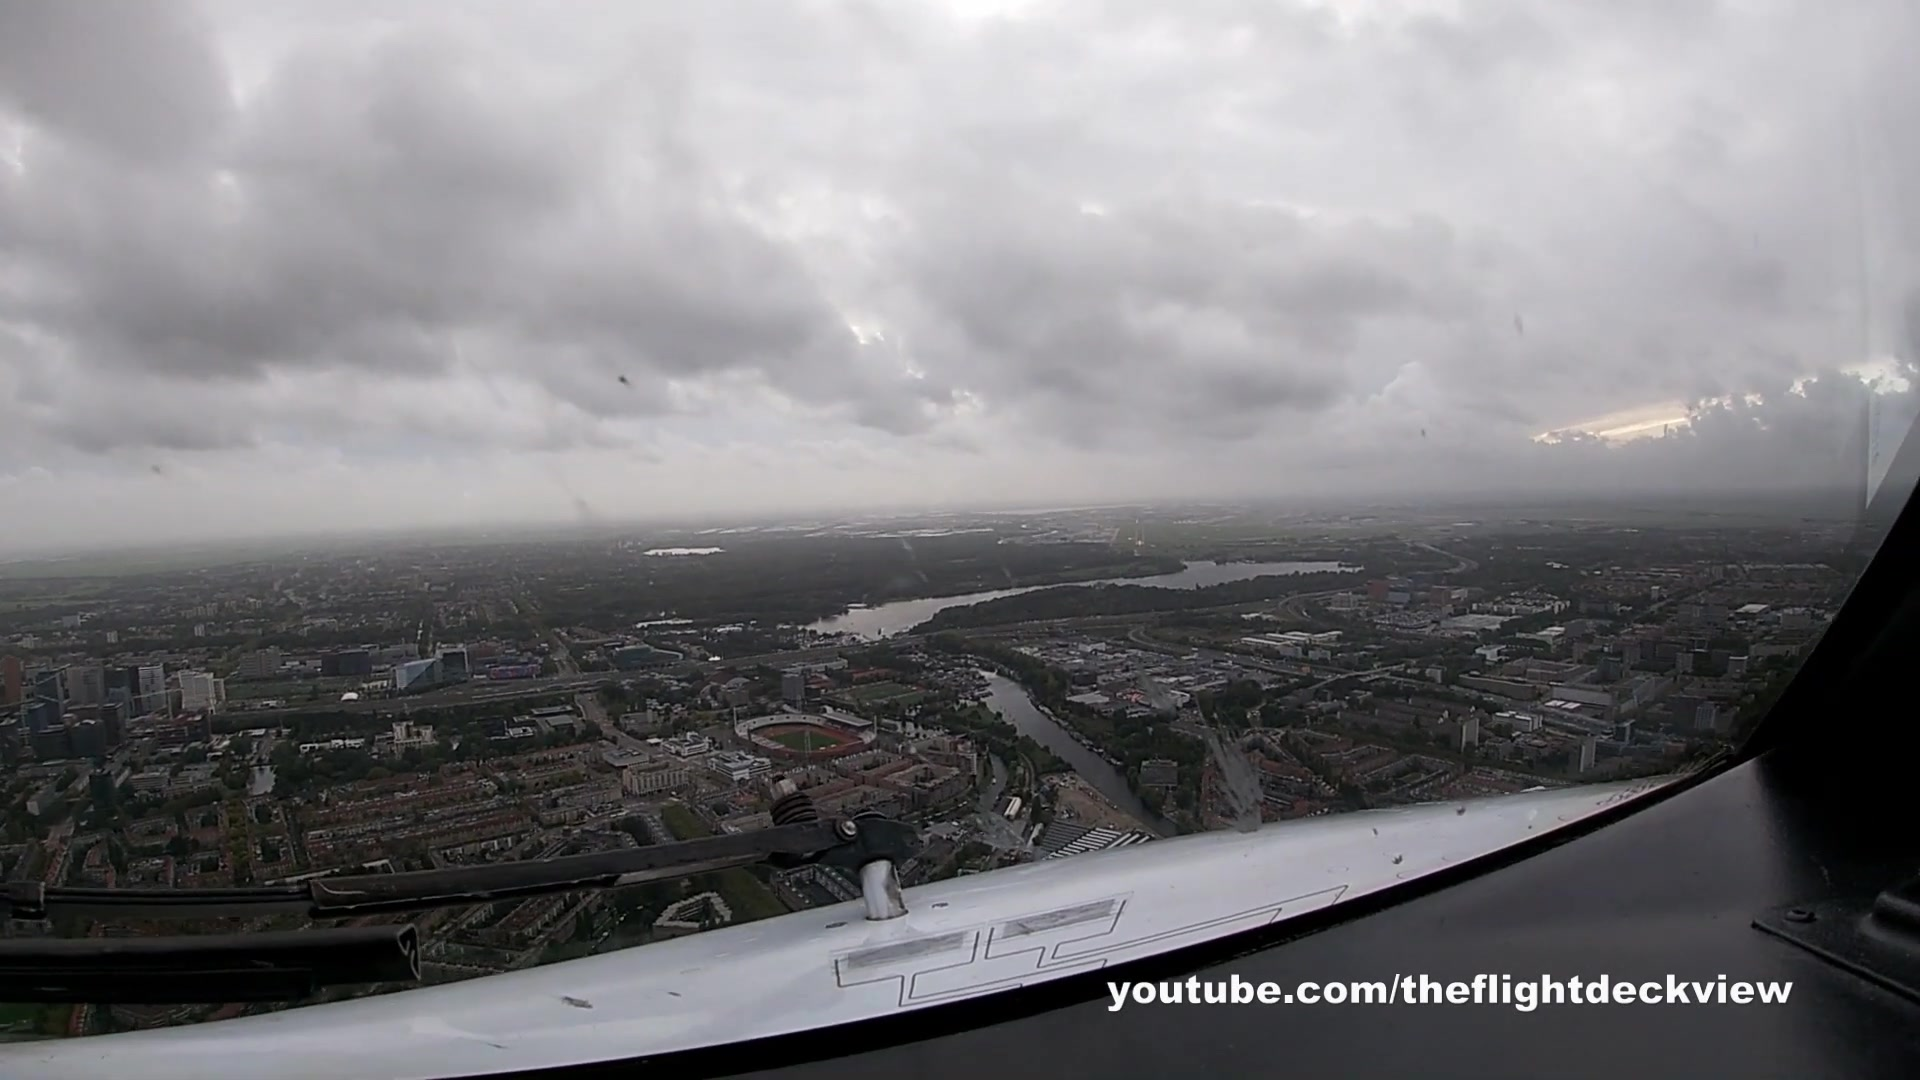runway: (1133, 524, 1145, 547)
